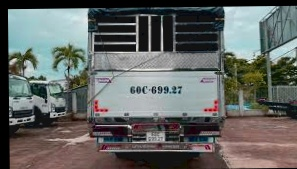Bien-so: (152, 131, 171, 144)
